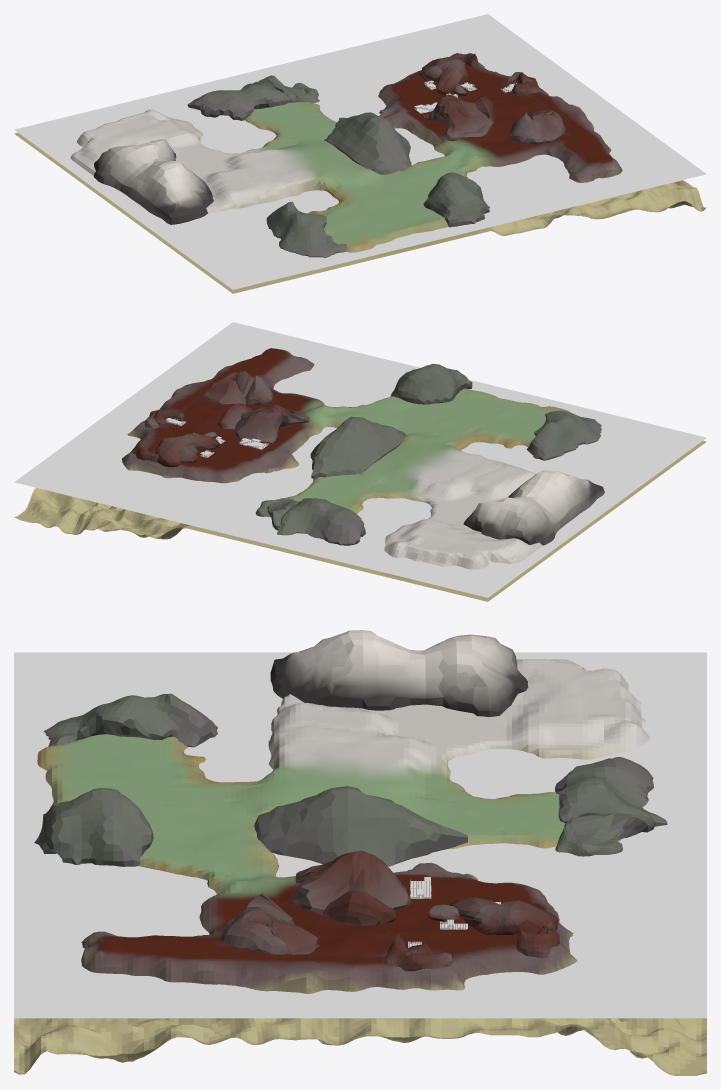
Rendered from Level.fbx.
3 renders of one model, top to bottom at view 1: azimuth 30°, elevation 25°; view 2: azimuth 150°, elevation 25°; view 3: azimuth 270°, elevation 25°, orthographic. The views are drawn at different scales.
Parts seen in each view (by area): view 1: Water, Ground, Rock.018, Rock.017, Rock.015, Rock.016, Rock.014, Rock.006, Rock.008, Rock.003; view 2: Water, Ground, Rock.018, Rock.017, Rock.014, Rock.015, Rock.016, Rock.006, Rock.003, Rock.008, Rock.009, Rock.007; view 3: Water, Ground, Rock.018, Rock.017, Rock.016, Rock.015, Rock.014, Rock.006, Rock.003, Rock.008, Rock.013, Rock.007 (+4 smaller).
Boxes of the visible parts, bbox=[...] form: Water: bbox=[14, 14, 706, 289]; Ground: bbox=[14, 62, 706, 293]; Rock.018: bbox=[93, 139, 213, 224]; Rock.017: bbox=[324, 112, 411, 174]; Rock.015: bbox=[266, 201, 346, 257]; Rock.016: bbox=[423, 172, 489, 227]; Rock.014: bbox=[187, 81, 291, 120]; Rock.006: bbox=[423, 94, 493, 140]; Rock.008: bbox=[509, 112, 565, 144]; Rock.003: bbox=[422, 56, 468, 95]; Water: bbox=[14, 322, 706, 597]; Ground: bbox=[14, 348, 706, 601]; Rock.018: bbox=[463, 470, 604, 545]; Rock.017: bbox=[310, 416, 405, 479]; Rock.014: bbox=[277, 498, 365, 545]; Rock.015: bbox=[526, 410, 601, 460]; Rock.016: bbox=[390, 364, 472, 404]; Rock.006: bbox=[235, 405, 309, 442]; Rock.003: bbox=[155, 433, 219, 467]; Rock.008: bbox=[211, 371, 273, 404]; Rock.009: bbox=[203, 378, 246, 405]; Rock.007: bbox=[218, 403, 252, 429]; Water: bbox=[14, 652, 706, 1018]; Ground: bbox=[14, 659, 706, 1075]; Rock.018: bbox=[270, 630, 528, 716]; Rock.017: bbox=[254, 786, 467, 866]; Rock.016: bbox=[34, 788, 153, 866]; Rock.015: bbox=[43, 693, 217, 747]; Rock.014: bbox=[555, 756, 667, 826]; Rock.006: bbox=[292, 850, 411, 915]; Rock.003: bbox=[450, 897, 557, 935]; Rock.008: bbox=[220, 893, 294, 954]; Rock.013: bbox=[564, 813, 655, 843]; Rock.007: bbox=[323, 890, 396, 925].
Bounding box in the file's own units: 100000 × 15321 × 80000.
